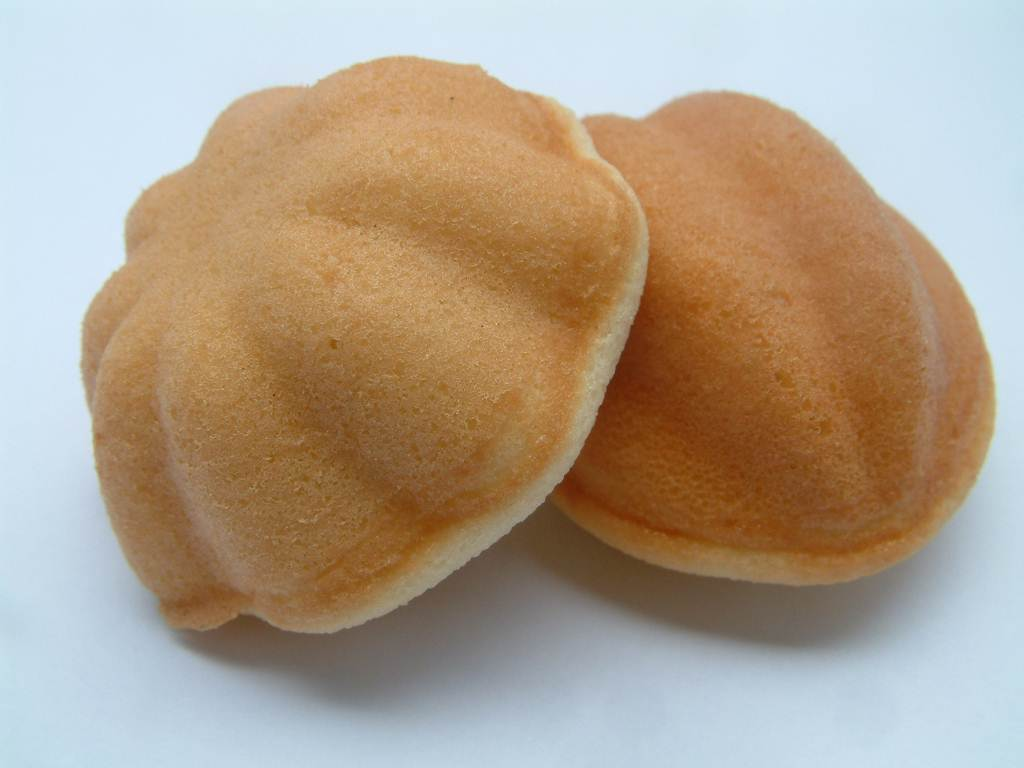kanomkai: (54, 40, 650, 672), (469, 27, 1006, 630)
